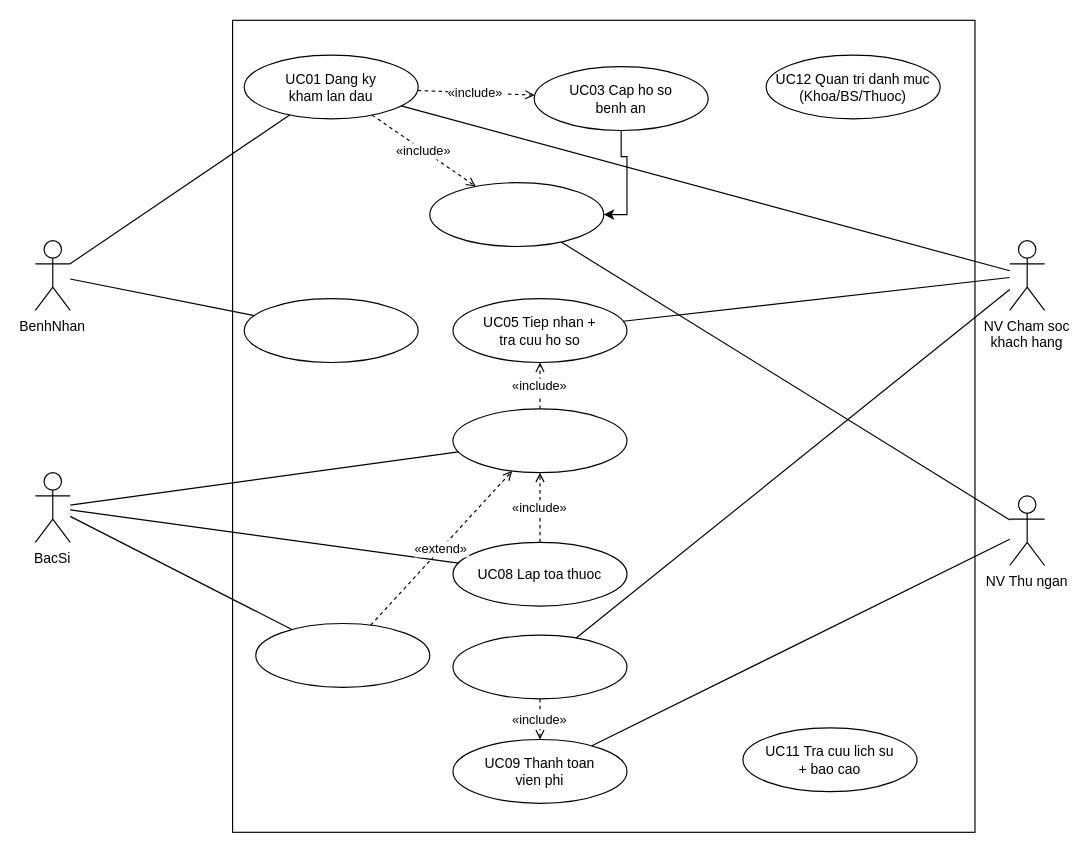
The diagram is 1090 pixels wide and 853 high, and some of its shapes have lost their labels. Here are the shapes that lost their labels. From the top down, the centre of each, then its label:
At point 516,214: "UC02 Dong le phi nam".
At point 330,330: "UC04 Dat lich hen dinh ky quy".
At point 539,440: "UC06 Kham benh (ghi trieu chung)".
At point 342,654: "UC07 Chi dinh + nhap KQ xet nghiem".
At point 539,666: "UC10 Ghi nhan + hoan tat dot DT".
